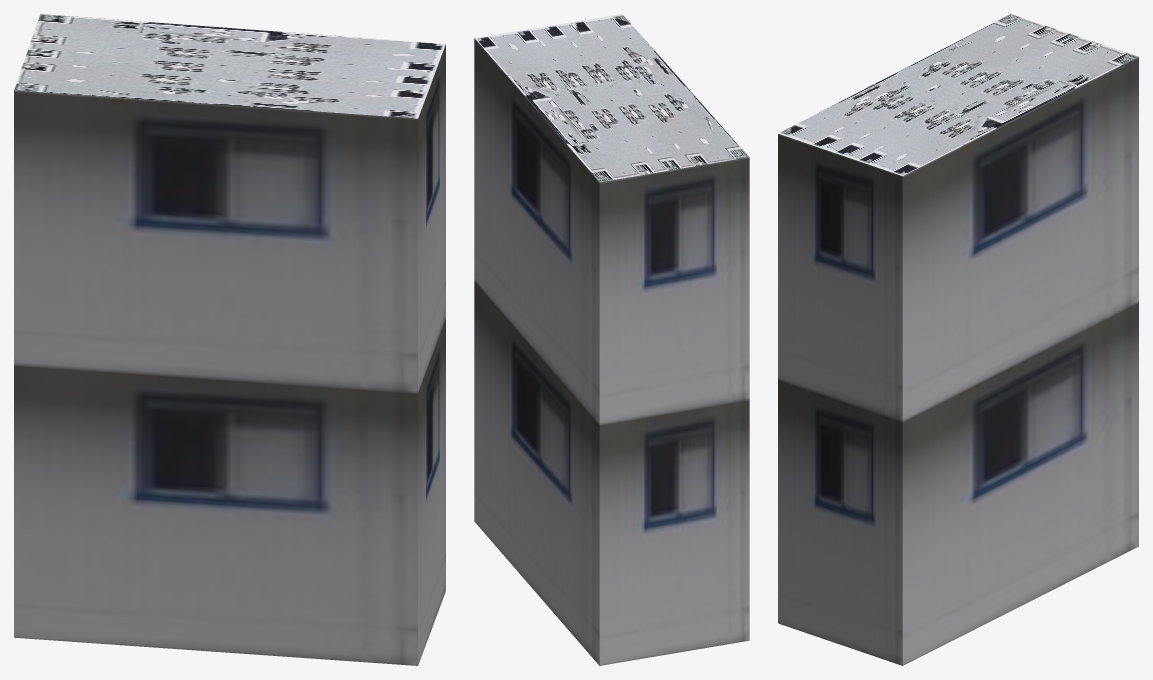
The model's file is ResTex__1949.fbx.
3 renders of one model, left to right at view 1: azimuth 30°, elevation 25°; view 2: azimuth 150°, elevation 25°; view 3: azimuth 270°, elevation 25°, orthographic. The views are drawn at different scales.
Parts seen in each view (by area): view 1: CityEngineMaterial_9_m, CityEngineMaterial_8_m; view 2: CityEngineMaterial_9_m, CityEngineMaterial_8_m; view 3: CityEngineMaterial_9_m, CityEngineMaterial_8_m.
Part boxes in pixels (x1,y1,x2,y2): CityEngineMaterial_9_m: (14, 44, 445, 665); CityEngineMaterial_8_m: (14, 14, 445, 118); CityEngineMaterial_9_m: (474, 38, 749, 665); CityEngineMaterial_8_m: (475, 14, 748, 182); CityEngineMaterial_9_m: (778, 57, 1138, 665); CityEngineMaterial_8_m: (778, 14, 1138, 175).
Bounding box in the file's own units: 4.26 × 6 × 4.01.
2 materials, 2 textured.
